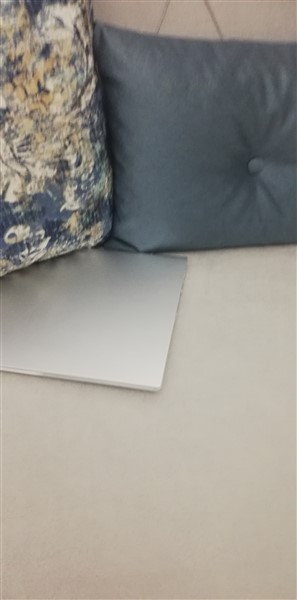laptop: (1, 248, 196, 395)
